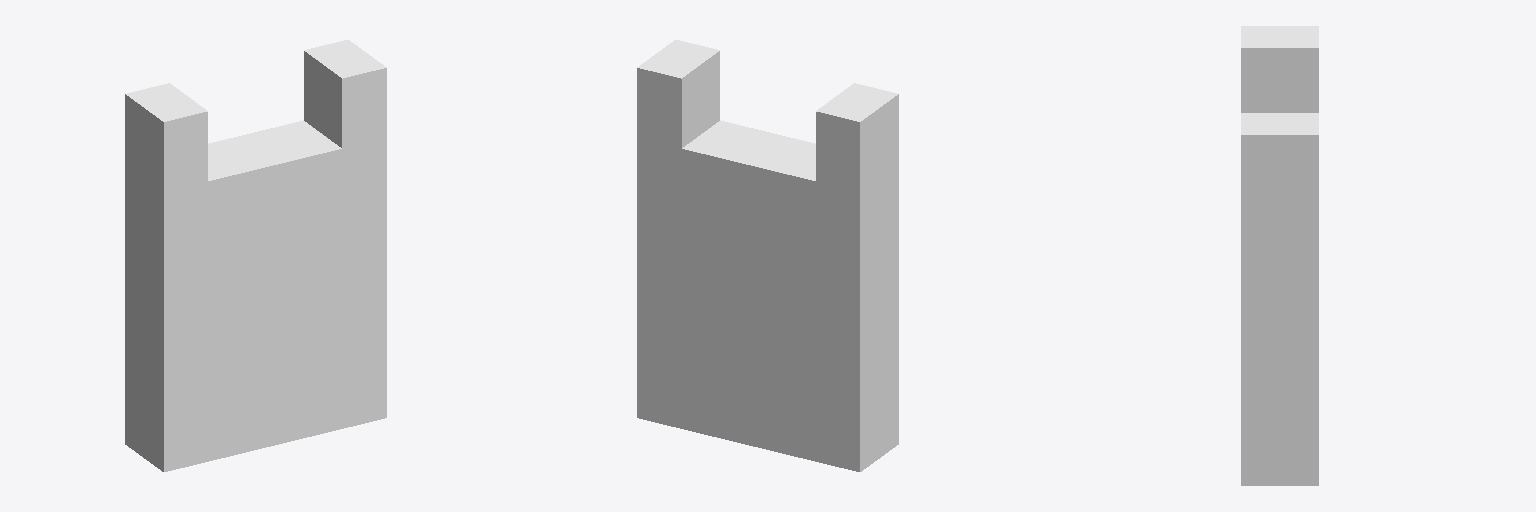
The model's file is plastic_bag.obj.
3 renders of one model, left to right at view 1: azimuth 30°, elevation 25°; view 2: azimuth 150°, elevation 25°; view 3: azimuth 270°, elevation 25°, orthographic.
Parts seen in each view (by area): view 1: object 1; view 2: object 1; view 3: object 1.
Part boxes in pixels (x1,y1,x2,y2): object 1: (125, 40, 386, 471); object 1: (637, 40, 898, 471); object 1: (1241, 26, 1318, 485).
Bounding box in the file's own units: 1 × 1.5 × 0.3.